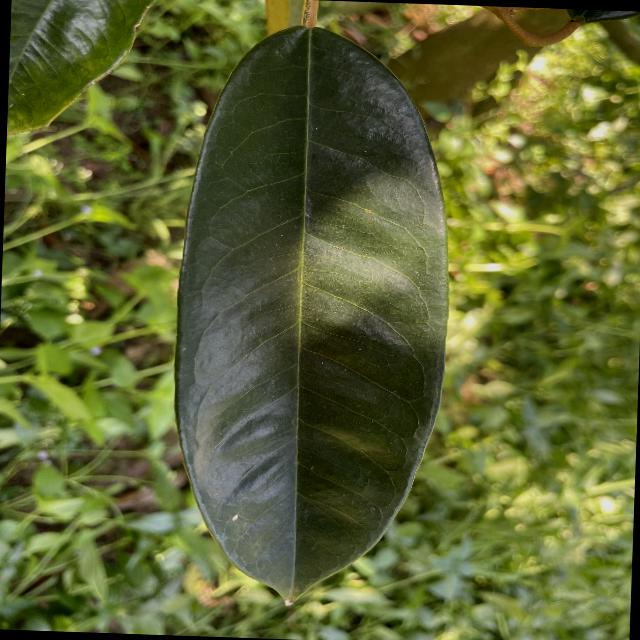No Disease: (154, 14, 466, 618)
